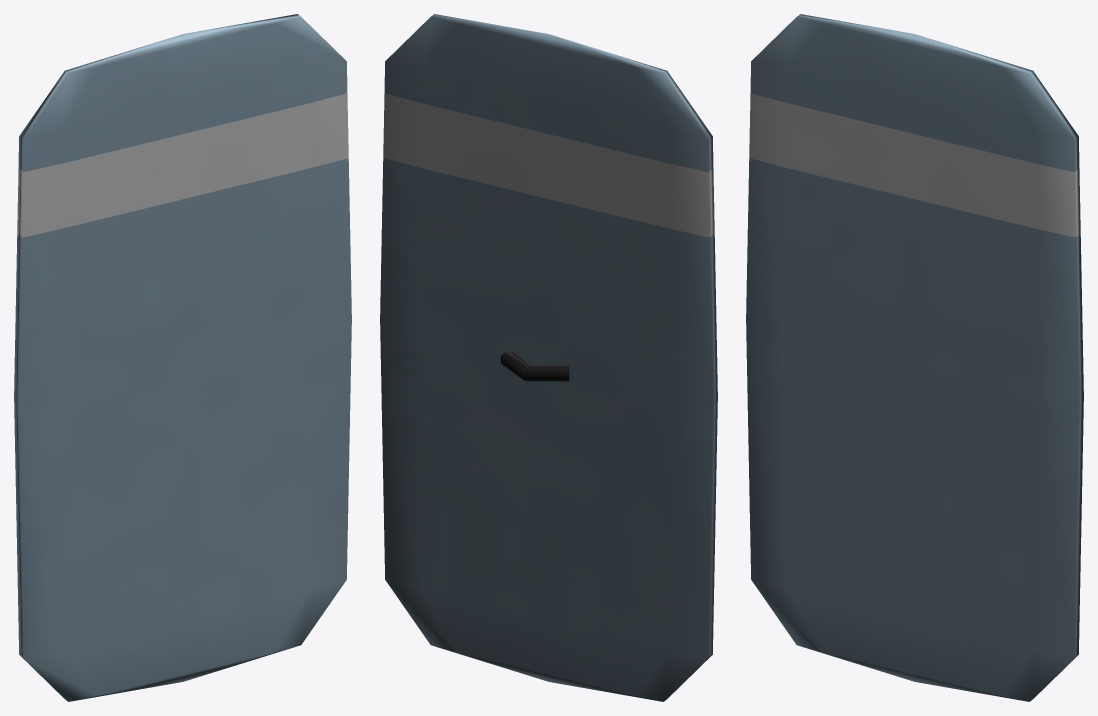
File: bouclier-anti-emeute.glb
3 renders of one model, left to right at view 1: azimuth 30°, elevation 25°; view 2: azimuth 150°, elevation 25°; view 3: azimuth 330°, elevation 25°, orthographic.
Parts seen in each view (by area): view 1: bouclier-anti-emeute; view 2: bouclier-anti-emeute; view 3: bouclier-anti-emeute.
Boxes of the visible parts, x1=… form: bouclier-anti-emeute: x1=14, y1=14, x2=351, y2=701; bouclier-anti-emeute: x1=380, y1=14, x2=717, y2=701; bouclier-anti-emeute: x1=746, y1=14, x2=1083, y2=701.
Size of the model in its own units: 0.5371 by 1 by 0.0802.
1 material, 1 textured.
